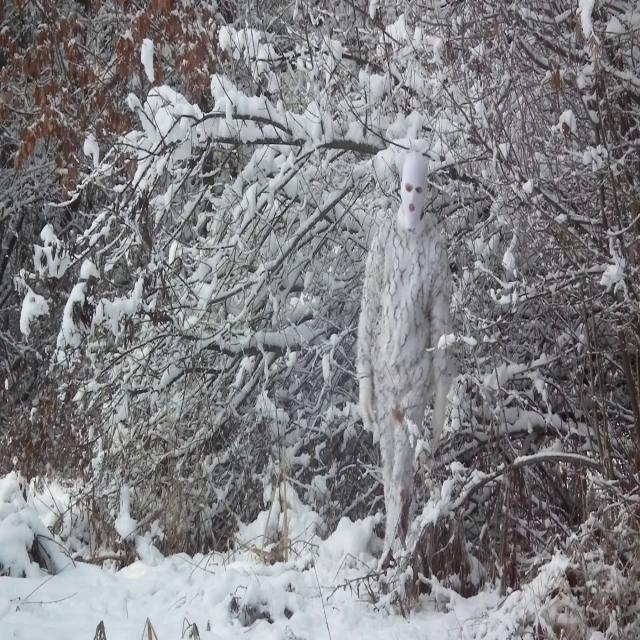Camouflage: (355, 154, 453, 570)
